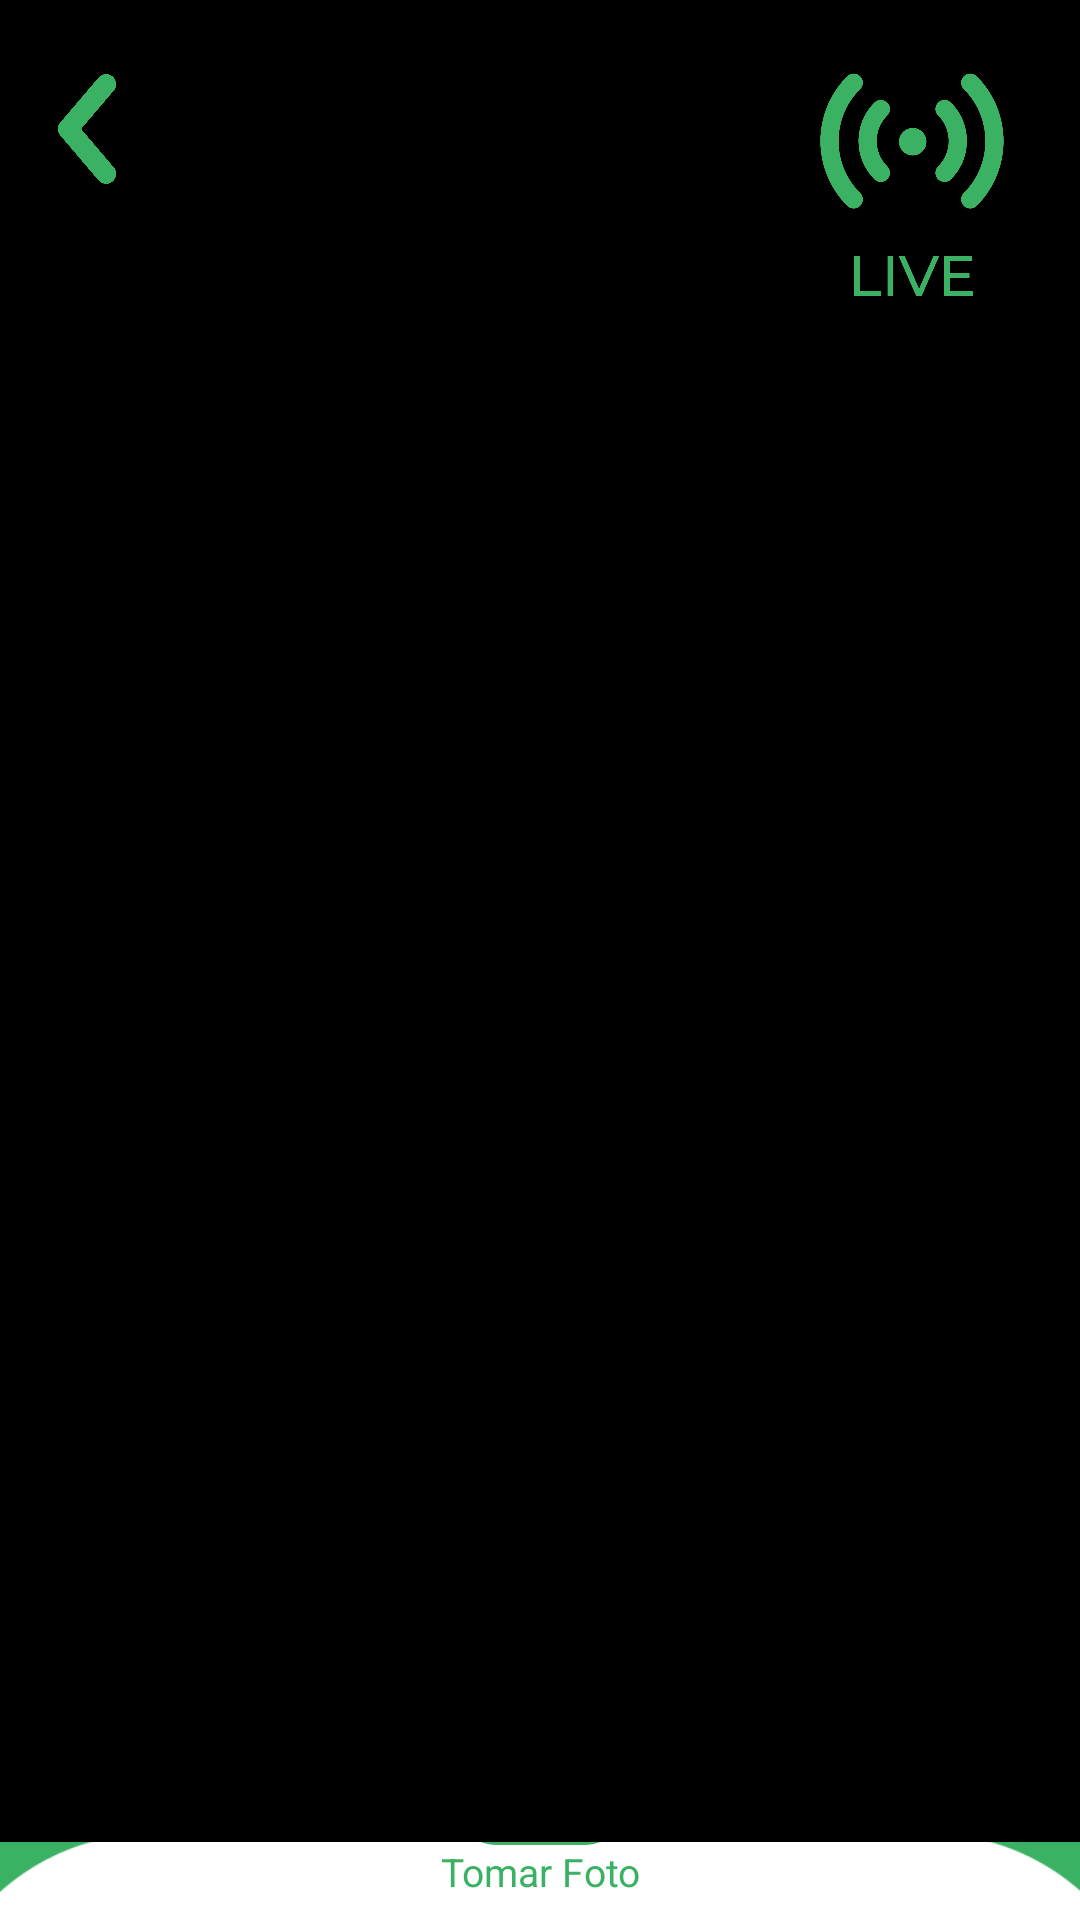

Icon click points for this 1080 × 1920 phone screenshot, format [x,y]:
Volver: [87,129]
